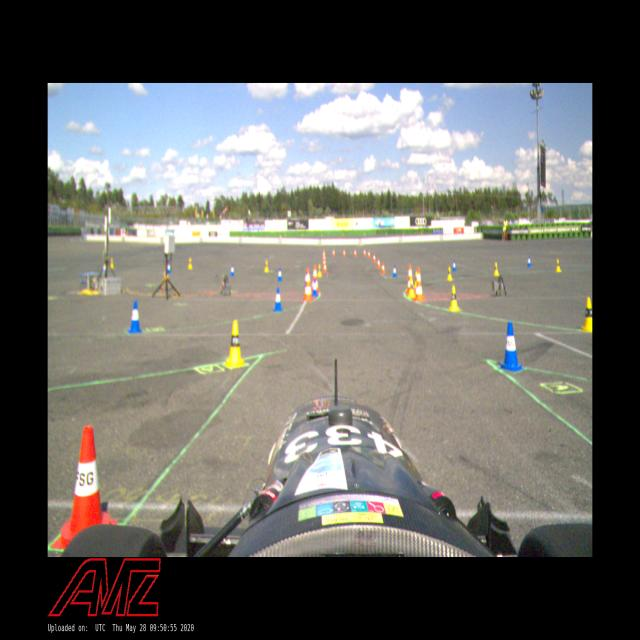blue_cone: (500, 324, 522, 371), (127, 302, 141, 334), (272, 287, 282, 312), (311, 278, 318, 300), (392, 264, 398, 278), (526, 254, 533, 266), (276, 268, 282, 282), (452, 259, 457, 272), (230, 264, 234, 278)
large_orange_cone: (302, 267, 313, 302), (414, 268, 425, 302), (310, 264, 321, 297), (406, 262, 414, 299)
orange_cone: (57, 428, 118, 549), (381, 262, 385, 274), (377, 257, 380, 269), (342, 248, 346, 257), (373, 253, 376, 263), (332, 248, 335, 257), (363, 248, 366, 256), (368, 249, 370, 258), (354, 248, 356, 257)
yellow_cone: (224, 321, 246, 369), (448, 285, 461, 311), (583, 296, 592, 331), (406, 278, 414, 297), (493, 260, 500, 278), (555, 258, 562, 272), (447, 266, 453, 282), (264, 260, 270, 273), (318, 263, 322, 278), (188, 258, 192, 269), (110, 256, 113, 268)
